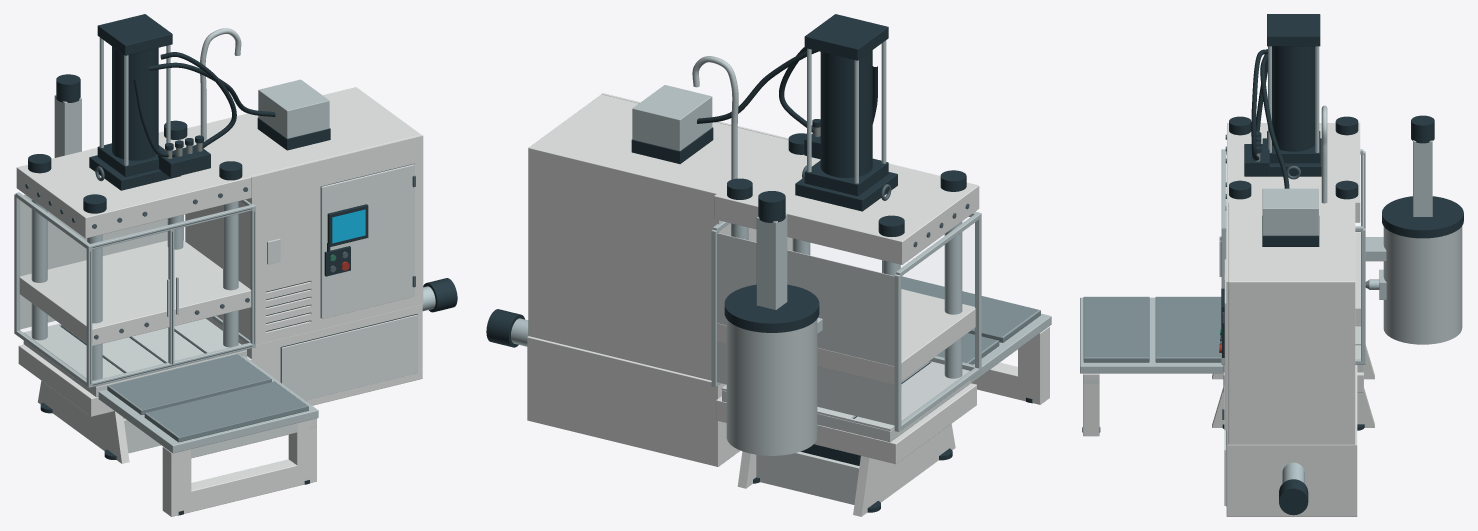
Rendered from model-B1FRyc5O.glb.
The picture shows the model from 3 angles, left to right: view 1: azimuth 30°, elevation 25°; view 2: azimuth 150°, elevation 25°; view 3: azimuth 270°, elevation 25°; orthographic projection. The views are drawn at different scales.
Parts seen in each view (by area): view 1: mpi_096_cabinet_vented_fascia, mpi_024_moving_platen_body, mpi_095_cabinet_upper_body, mpi_020_crown_housing, mpi_083_cabinet_door, mpi_099_lower_cabinet_cover, mpi_008_slotted_platen_surface, mpi_073_front_shuttle_table, mpi_069_rear_shuttle_table, mpi_034_clamp_cylinder, mpi_066_base_frame_and_guarding_component_066, mpi_080_base_frame_and_guarding_component_080 (+37 smaller); view 2: mpi_095_cabinet_upper_body, mpi_094_cabinet_lower_body, mpi_066_base_frame_and_guarding_component_066, mpi_020_crown_housing, mpi_106_wax_tank, mpi_034_clamp_cylinder, mpi_024_moving_platen_body, mpi_006_lower_bolster, mpi_101_upper_service_housing, mpi_004_base_frame_and_guarding_component_004, mpi_001_left_base_gusset, mpi_107_tank_lid (+23 smaller); view 3: mpi_095_cabinet_upper_body, mpi_094_cabinet_lower_body, mpi_106_wax_tank, mpi_020_crown_housing, mpi_073_front_shuttle_table, mpi_034_clamp_cylinder, mpi_069_rear_shuttle_table, mpi_101_upper_service_housing, mpi_107_tank_lid, mpi_077_shuttle_rail_bed, mpi_036_upper_cylinder_end, mpi_108_wax_supply_support (+18 smaller).
Part boxes in pixels (bbox=[...]): mpi_096_cabinet_vented_fascia: bbox=[250, 135, 423, 344]; mpi_024_moving_platen_body: bbox=[19, 240, 251, 345]; mpi_095_cabinet_upper_body: bbox=[185, 87, 421, 340]; mpi_020_crown_housing: bbox=[16, 128, 252, 238]; mpi_083_cabinet_door: bbox=[321, 164, 414, 318]; mpi_099_lower_cabinet_cover: bbox=[281, 314, 417, 400]; mpi_008_slotted_platen_surface: bbox=[23, 318, 246, 387]; mpi_073_front_shuttle_table: bbox=[144, 381, 308, 442]; mpi_069_rear_shuttle_table: bbox=[107, 354, 271, 414]; mpi_034_clamp_cylinder: bbox=[112, 46, 158, 160]; mpi_066_base_frame_and_guarding_component_066: bbox=[20, 194, 167, 329]; mpi_080_base_frame_and_guarding_component_080: bbox=[163, 459, 316, 516]; mpi_095_cabinet_upper_body: bbox=[528, 94, 792, 380]; mpi_094_cabinet_lower_body: bbox=[527, 336, 740, 466]; mpi_066_base_frame_and_guarding_component_066: bbox=[717, 233, 894, 425]; mpi_020_crown_housing: bbox=[714, 142, 979, 264]; mpi_106_wax_tank: bbox=[726, 319, 817, 455]; mpi_034_clamp_cylinder: bbox=[820, 50, 872, 177]; mpi_024_moving_platen_body: bbox=[717, 289, 975, 384]; mpi_006_lower_bolster: bbox=[716, 383, 976, 464]; mpi_101_upper_service_housing: bbox=[632, 85, 712, 150]; mpi_004_base_frame_and_guarding_component_004: bbox=[756, 451, 859, 504]; mpi_001_left_base_gusset: bbox=[853, 424, 955, 516]; mpi_107_tank_lid: bbox=[724, 284, 819, 332]; mpi_095_cabinet_upper_body: bbox=[1228, 201, 1355, 444]; mpi_094_cabinet_lower_body: bbox=[1226, 365, 1357, 516]; mpi_106_wax_tank: bbox=[1383, 226, 1462, 344]; mpi_020_crown_housing: bbox=[1227, 123, 1360, 222]; mpi_073_front_shuttle_table: bbox=[1083, 297, 1149, 362]; mpi_034_clamp_cylinder: bbox=[1272, 46, 1314, 151]; mpi_069_rear_shuttle_table: bbox=[1155, 297, 1221, 362]; mpi_101_upper_service_housing: bbox=[1262, 188, 1318, 235]; mpi_107_tank_lid: bbox=[1382, 196, 1463, 238]; mpi_077_shuttle_rail_bed: bbox=[1080, 297, 1223, 373]; mpi_036_upper_cylinder_end: bbox=[1267, 14, 1320, 46]; mpi_108_wax_supply_support: bbox=[1413, 140, 1432, 216].
Bounding box in the file's own units: 4.77 × 4.44 × 4.1.
